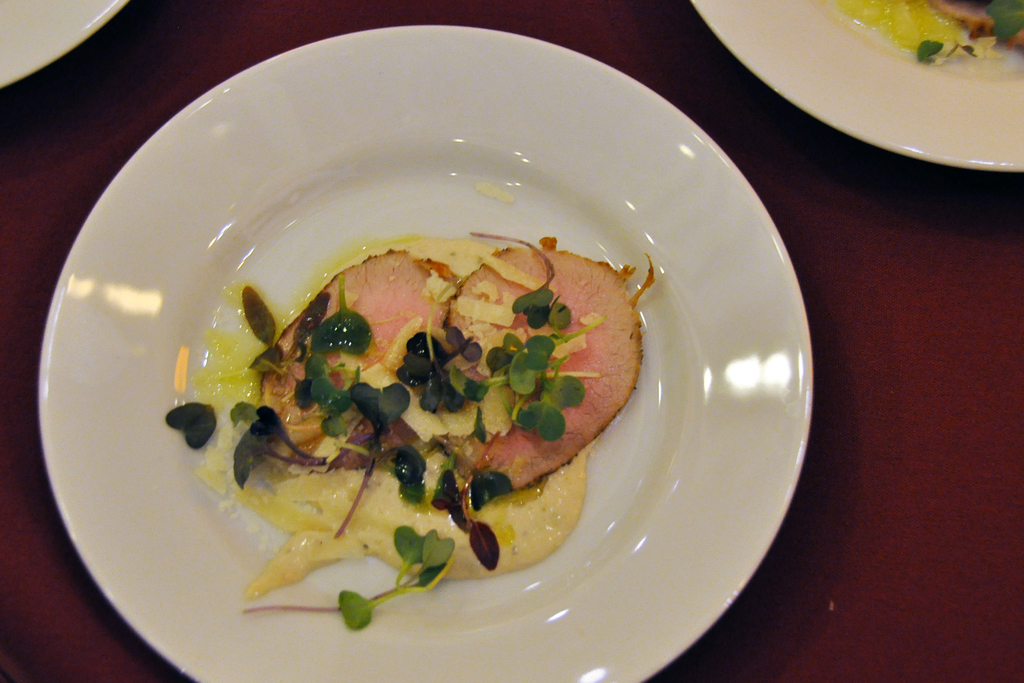plate: (31, 23, 812, 682)
